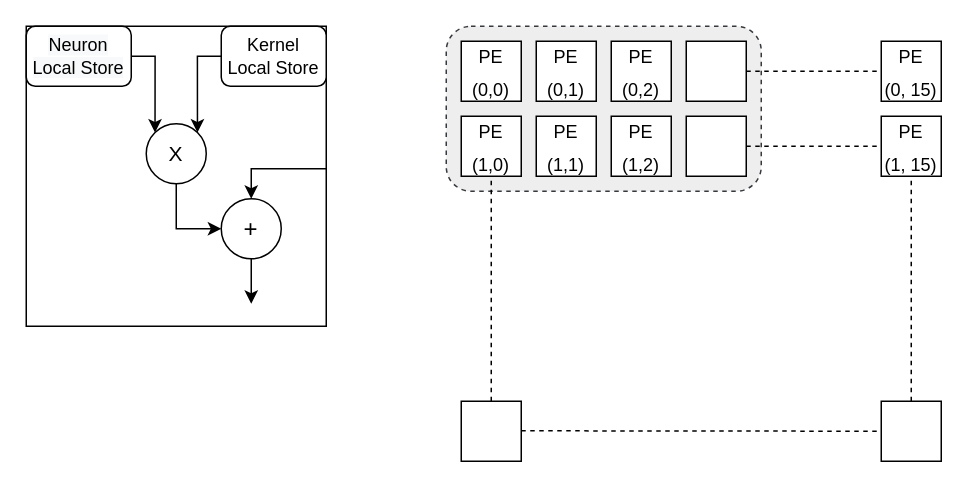
Some shapes in this 968 by 489 pixel diagram are drawn without their labels. The box of each missing label's shape, as (x1, y1, x2, y2) in pixels:
PE (0,3): (685, 40, 746, 101)
PE (1,3): (685, 115, 746, 176)
PE (15, 0): (460, 400, 521, 461)
PE (15,15): (880, 400, 941, 461)
